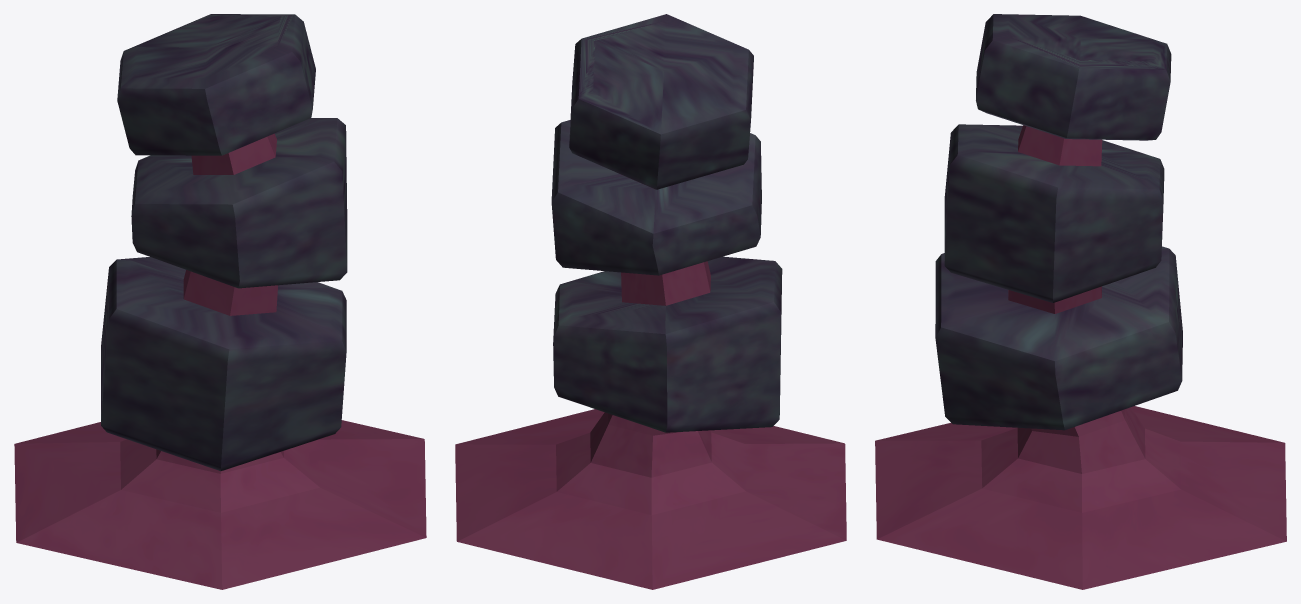
The model's file is Tree2.fbx.
3 renders of one model, left to right at view 1: azimuth 30°, elevation 25°; view 2: azimuth 150°, elevation 25°; view 3: azimuth 270°, elevation 25°, orthographic. The views are drawn at different scales.
Parts seen in each view (by area): view 1: pCylinder12; view 2: pCylinder12; view 3: pCylinder12.
Boxes of the visible parts, x1,y1,x2,y2 form: pCylinder12: (14, 14, 426, 589); pCylinder12: (455, 14, 846, 589); pCylinder12: (875, 14, 1286, 589).
Size of the model in its own units: 7.2 by 7.83 by 6.26.
Materials: 1 (1 with a texture image).
